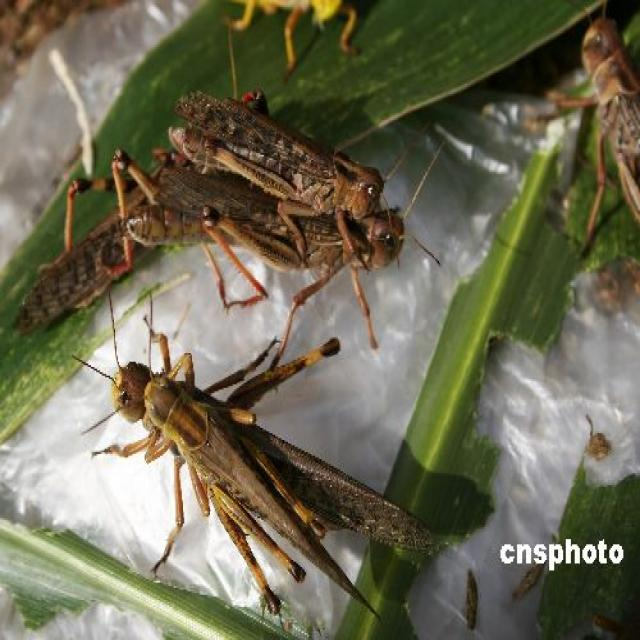ZhaMeng: (77, 343, 446, 586), (105, 168, 412, 283), (172, 77, 382, 225)
